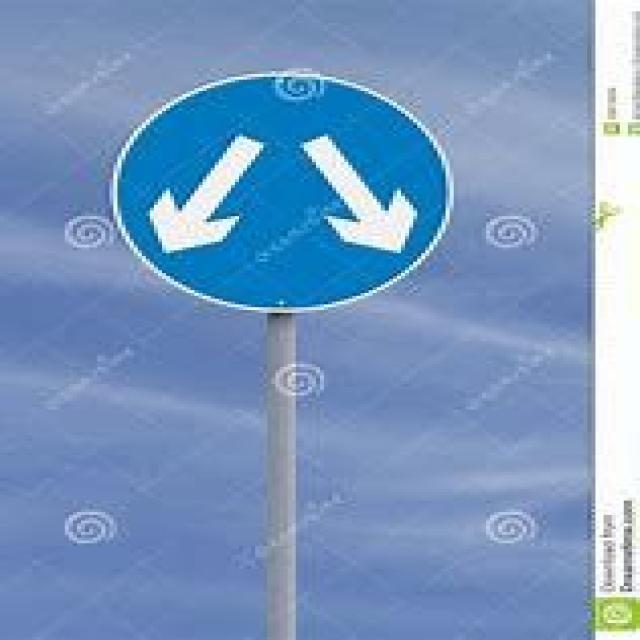pass either side: (109, 71, 455, 310)
